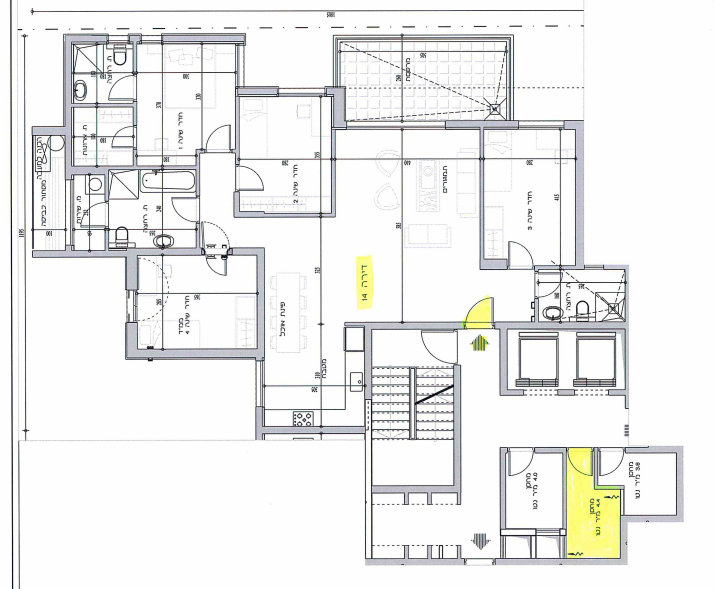door: (456, 289, 506, 319), (415, 331, 451, 364), (597, 452, 629, 480), (507, 456, 543, 480), (167, 194, 194, 225), (241, 163, 267, 195), (108, 123, 133, 154), (106, 72, 133, 100), (504, 236, 536, 259), (568, 454, 595, 481), (206, 120, 233, 146), (202, 262, 233, 278)
wall: (575, 122, 584, 264), (64, 33, 71, 173), (133, 349, 243, 357), (454, 369, 461, 491), (502, 558, 623, 565), (257, 255, 263, 358), (676, 447, 683, 519), (334, 90, 344, 127), (258, 428, 362, 431), (127, 250, 135, 284), (128, 326, 136, 356)
